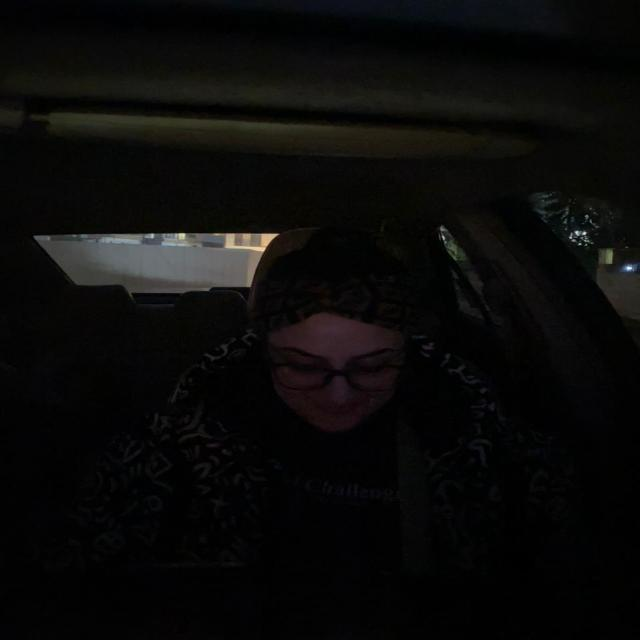drowsy: (236, 220, 450, 447)
